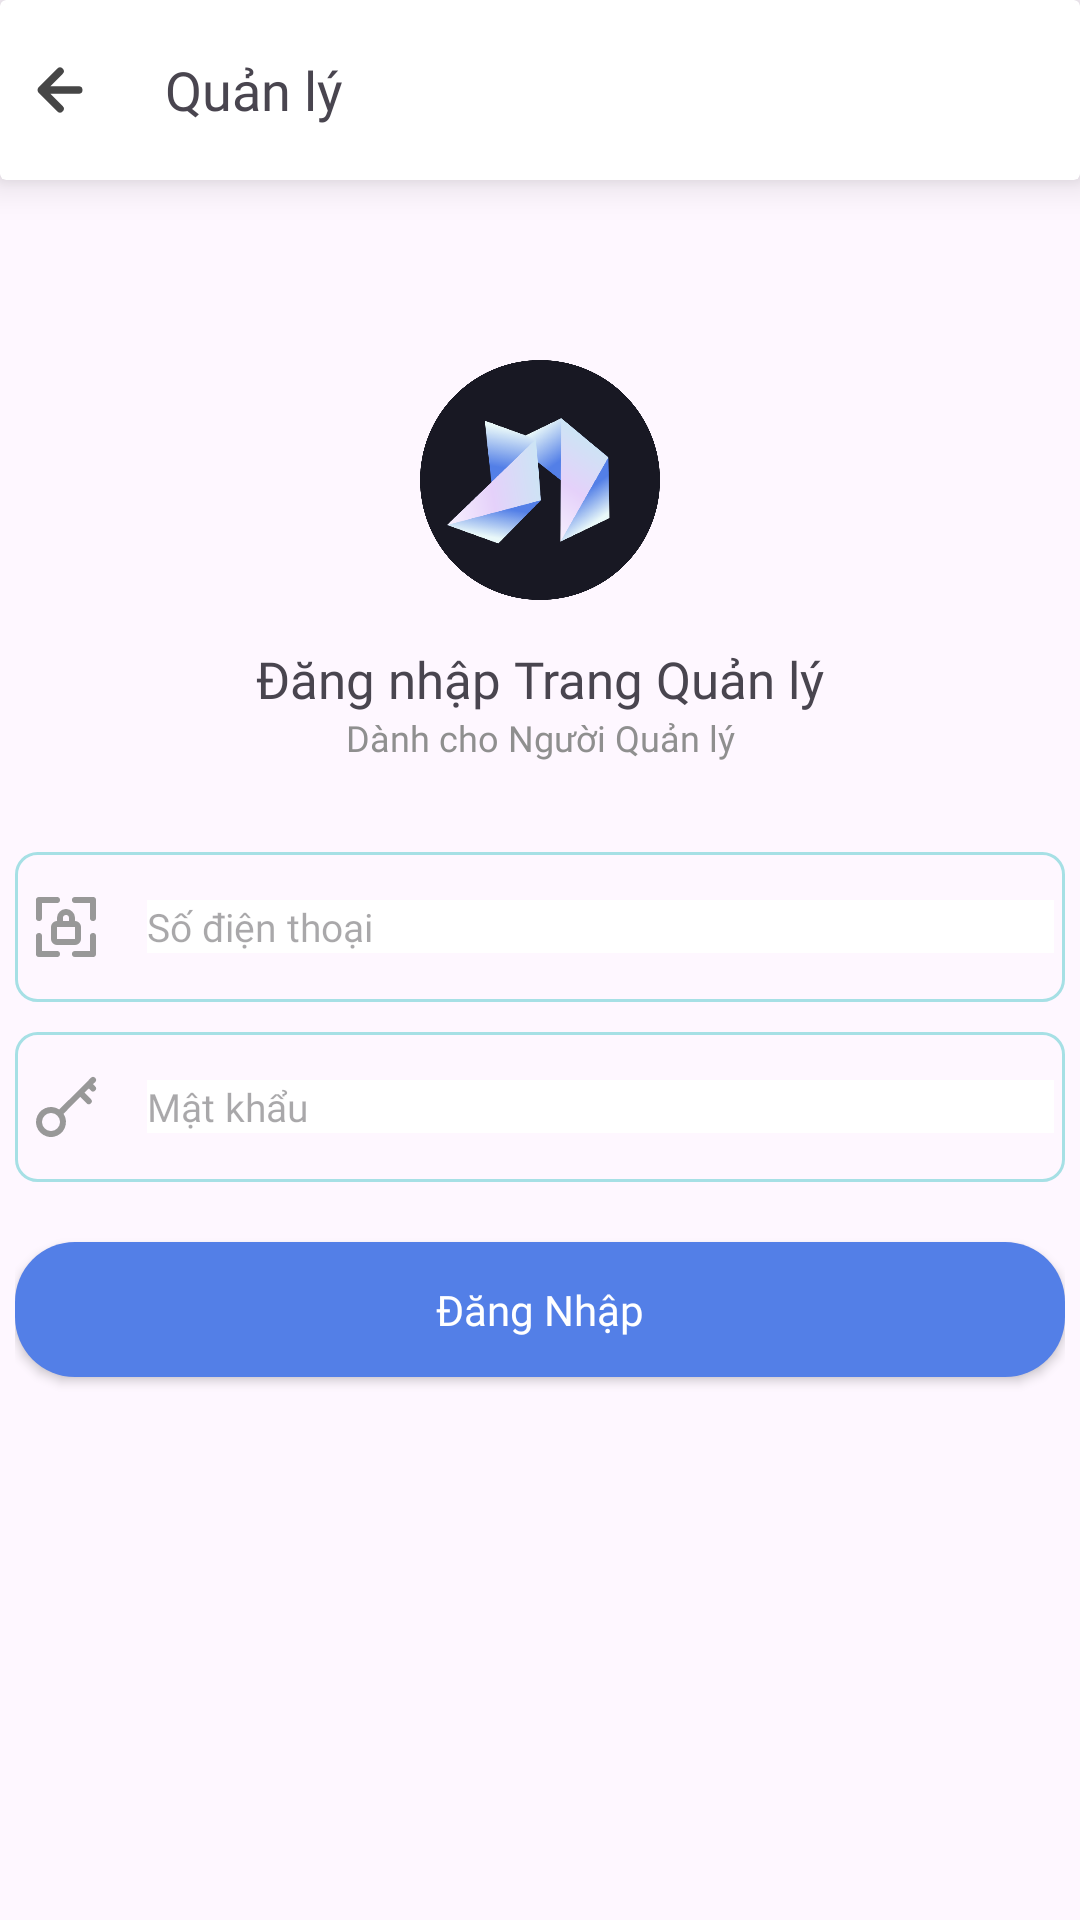

Screen size 1080x1920. Icon name, then its center in pixels as (x,y):
arrow left: (60,90)
key skeleton: (66,1107)
lock access: (66,927)
